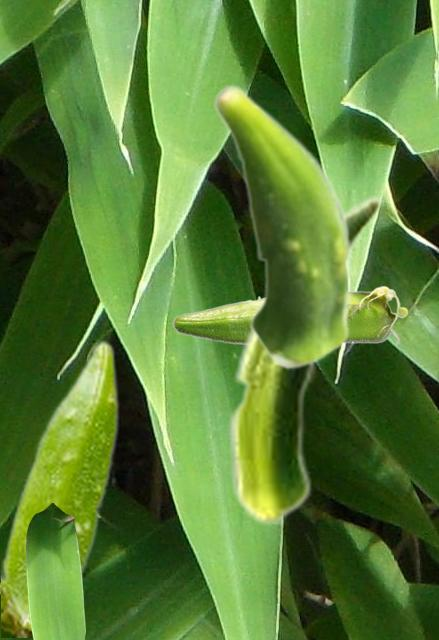okra: (227, 196, 382, 526), (212, 83, 353, 369), (1, 338, 119, 636), (172, 285, 407, 344)
